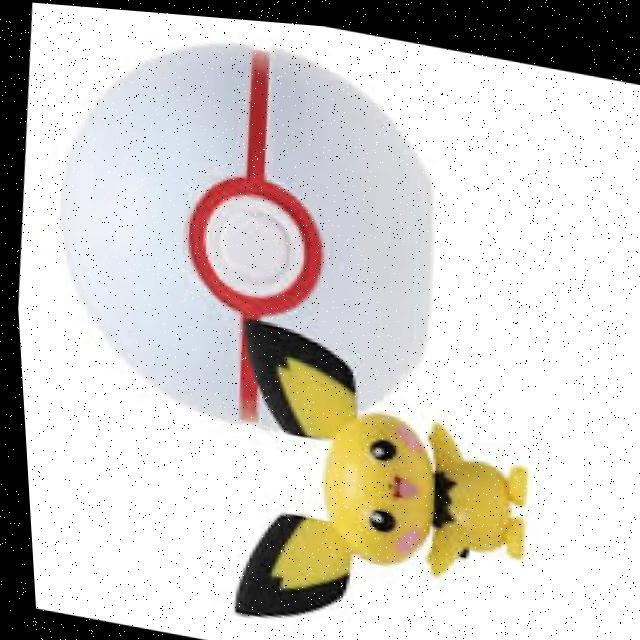pichu: (201, 315, 549, 640)
